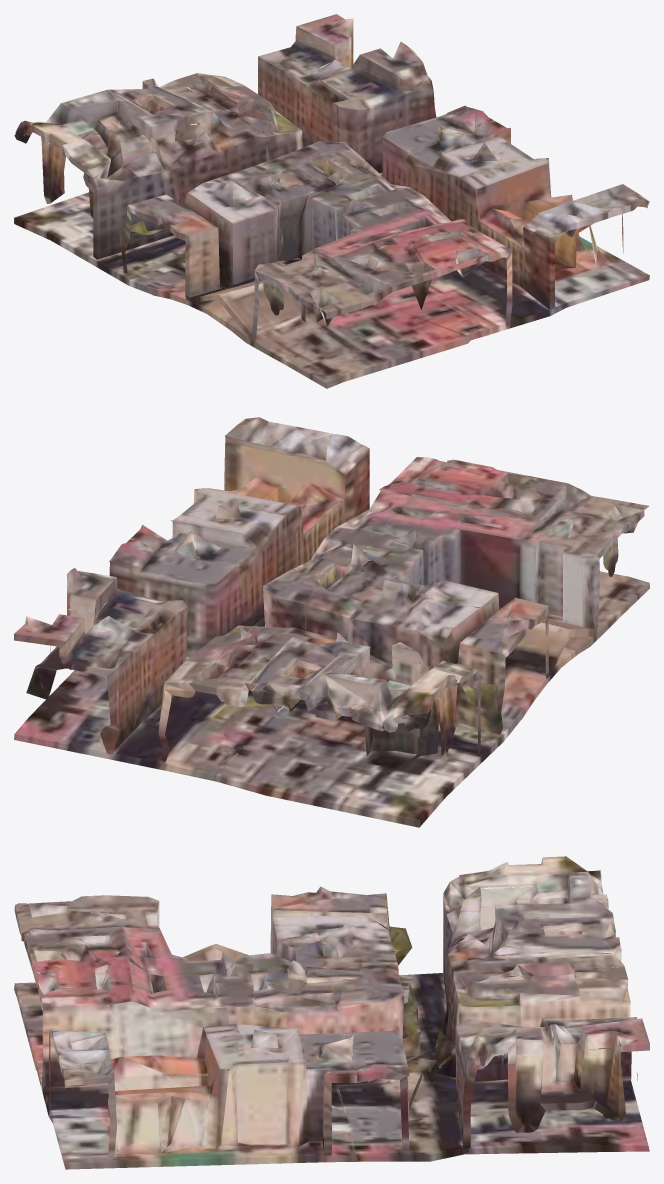
The picture shows the model from 3 angles, top to bottom: view 1: azimuth 30°, elevation 25°; view 2: azimuth 150°, elevation 25°; view 3: azimuth 270°, elevation 25°; orthographic projection. The views are drawn at different scales.
Parts seen in each view (by area): view 1: Mesh_0; view 2: Mesh_0; view 3: Mesh_0.
Part boxes in pixels (box(x1,y1,x2,y2)): Mesh_0: box(14, 14, 649, 388); Mesh_0: box(14, 417, 649, 827); Mesh_0: box(14, 856, 649, 1169).
Bounding box in the file's own units: 133 × 39.72 × 165.
1 material, 1 textured.
